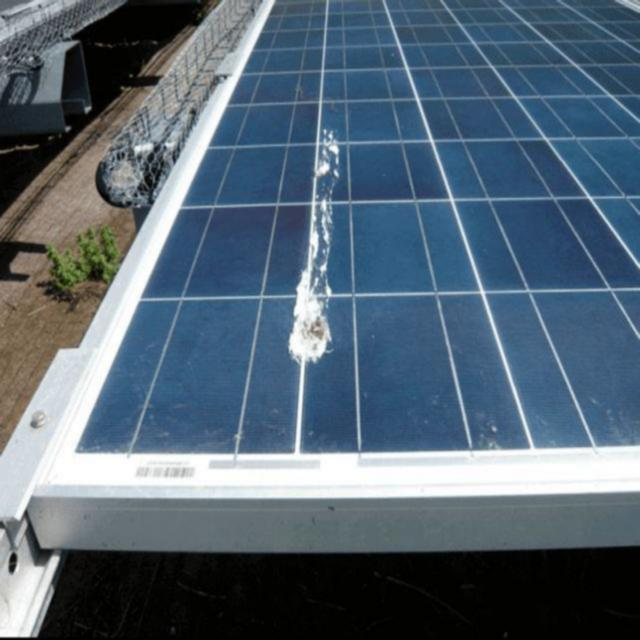soiled: (109, 5, 640, 492)
